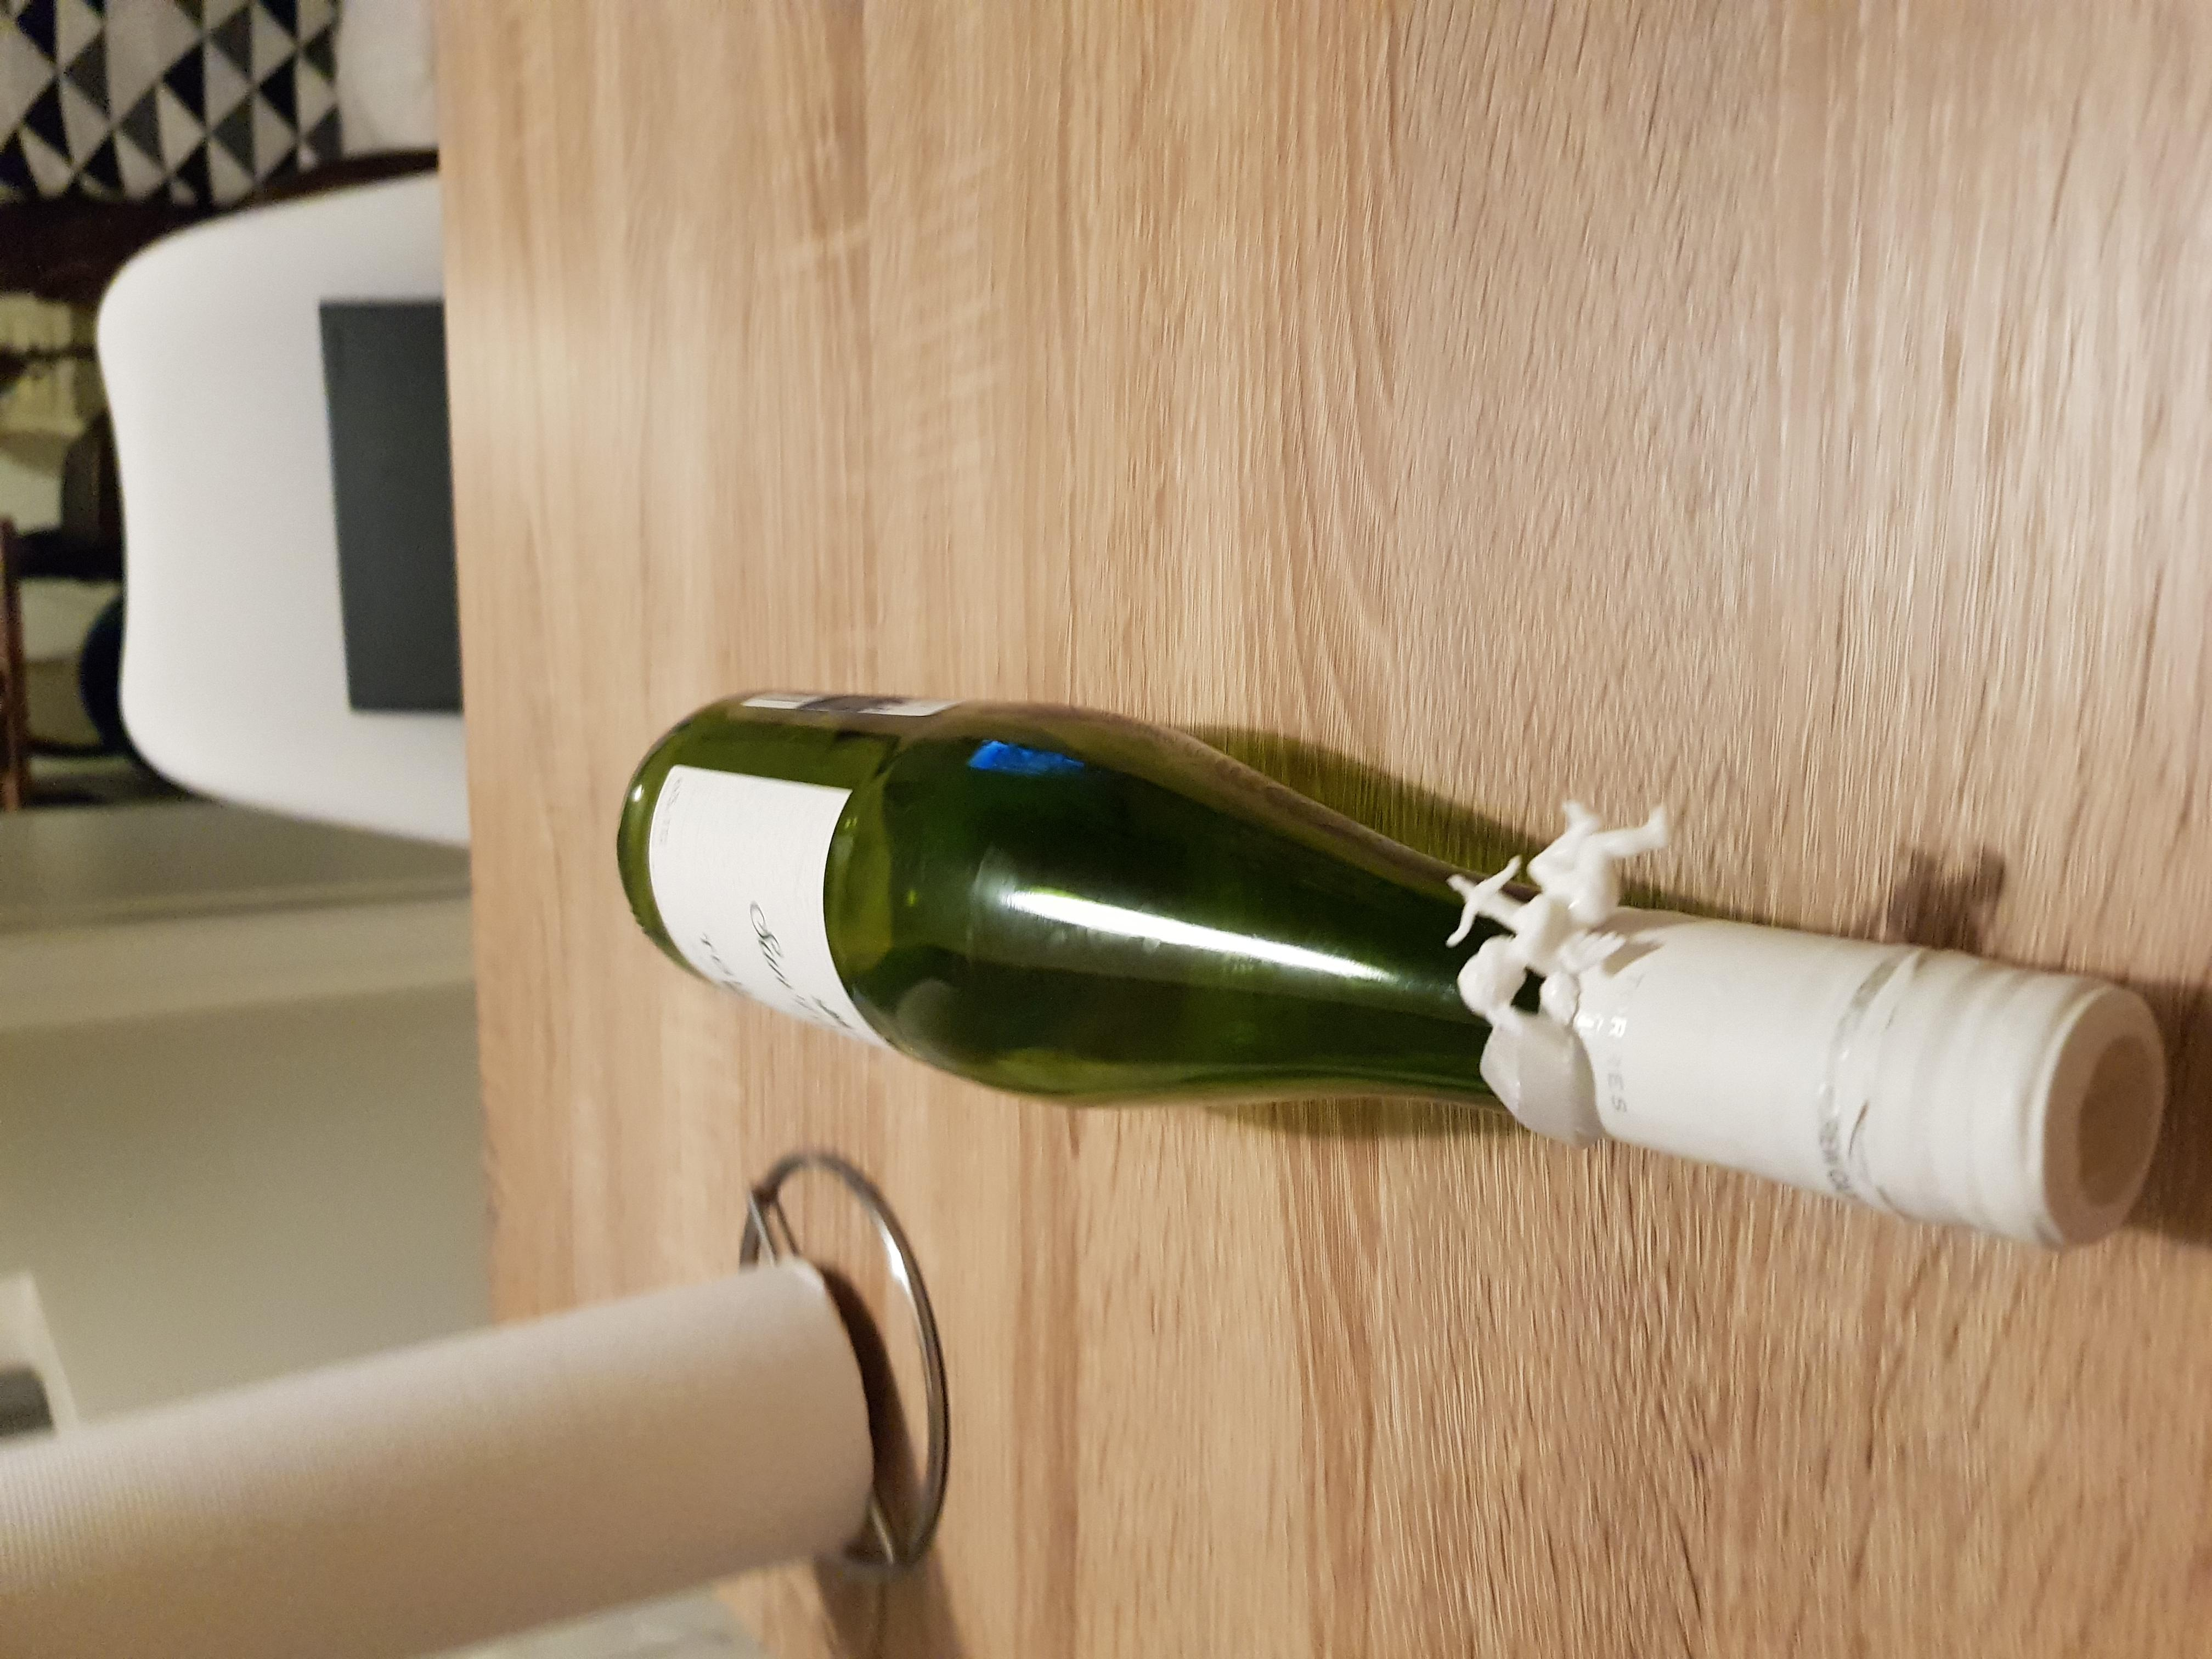Bottle: (611, 688, 2158, 1246)
